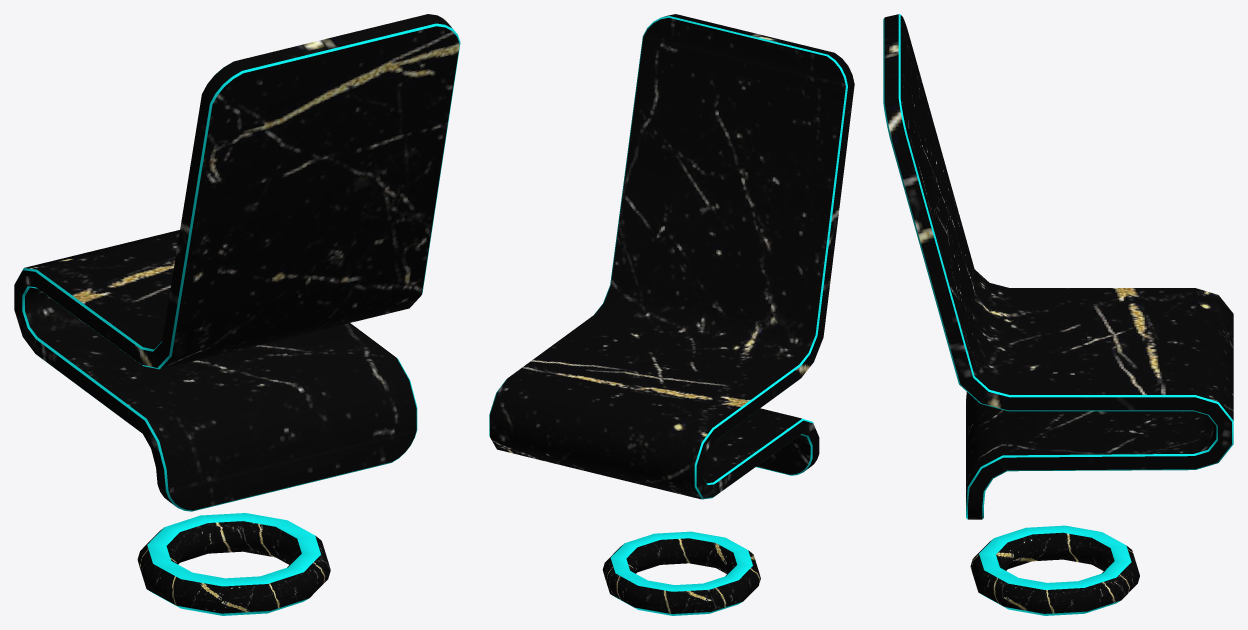
File: FUR0310001.fbx
The picture shows the model from 3 angles, left to right: view 1: azimuth 30°, elevation 25°; view 2: azimuth 150°, elevation 25°; view 3: azimuth 270°, elevation 25°; orthographic projection. The views are drawn at different scales.
Parts seen in each view (by area): view 1: smFUR0310001; view 2: smFUR0310001; view 3: smFUR0310001.
Part boxes in pixels (left/top/right/bottom): smFUR0310001: left=14, top=14, right=460, bottom=615; smFUR0310001: left=489, top=14, right=854, bottom=615; smFUR0310001: left=883, top=14, right=1233, bottom=615.
Size of the model in its own units: 58.16 by 133 by 79.42.
1 material, 1 textured.
